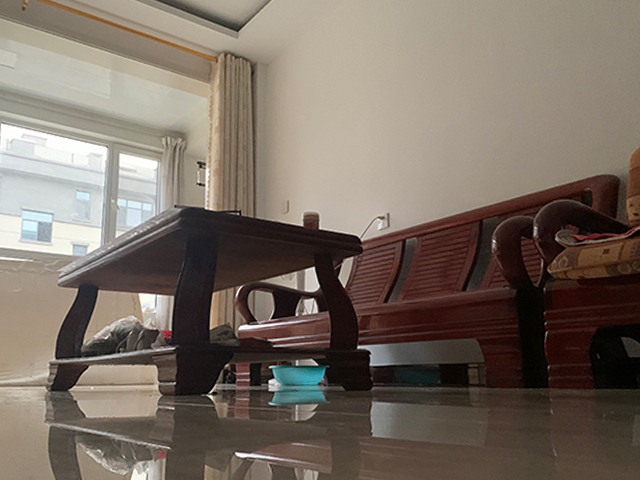curtain: (209, 51, 257, 333)
sofa: (234, 149, 545, 388), (533, 149, 640, 390)
table: (45, 206, 373, 397)
